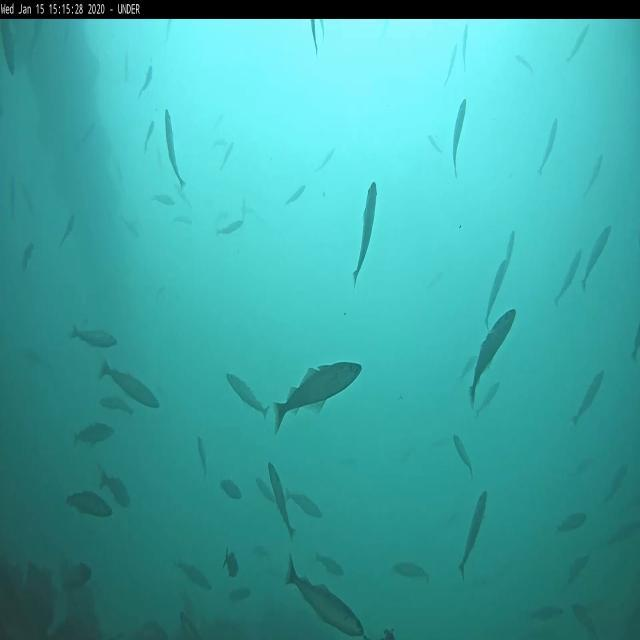fish: (274, 360, 361, 436), (285, 551, 360, 637), (469, 310, 514, 411), (101, 359, 159, 408), (457, 488, 488, 576), (353, 182, 379, 285), (229, 372, 269, 421), (268, 462, 293, 539), (582, 224, 611, 288), (574, 368, 605, 423), (554, 250, 582, 309), (165, 108, 186, 185), (486, 260, 506, 330), (66, 491, 111, 518), (453, 98, 467, 177), (72, 325, 120, 348), (100, 471, 131, 506), (286, 488, 322, 518), (176, 562, 212, 591), (538, 119, 557, 173), (606, 519, 639, 547), (0, 20, 17, 74), (565, 27, 589, 64), (572, 602, 596, 638), (452, 434, 472, 477), (75, 423, 114, 445), (584, 153, 603, 195), (606, 464, 627, 501), (392, 564, 430, 584), (568, 555, 590, 585), (501, 230, 515, 276), (530, 604, 564, 622), (556, 513, 588, 532), (254, 476, 276, 502), (314, 554, 342, 574), (100, 399, 134, 415), (222, 546, 238, 578), (444, 44, 456, 84), (20, 180, 34, 214), (176, 183, 193, 210), (138, 66, 153, 96), (59, 216, 73, 248), (220, 476, 240, 498), (198, 434, 208, 476), (515, 53, 534, 75), (318, 148, 337, 170), (77, 126, 96, 146), (216, 220, 242, 234), (220, 142, 233, 170), (22, 242, 34, 272), (310, 20, 319, 58), (228, 586, 252, 600), (142, 122, 154, 150), (286, 186, 305, 203), (119, 217, 139, 233), (428, 134, 442, 156), (631, 327, 639, 362), (463, 24, 468, 72), (10, 178, 16, 216), (152, 195, 174, 204), (124, 54, 130, 82), (320, 20, 326, 39), (172, 217, 190, 223)
